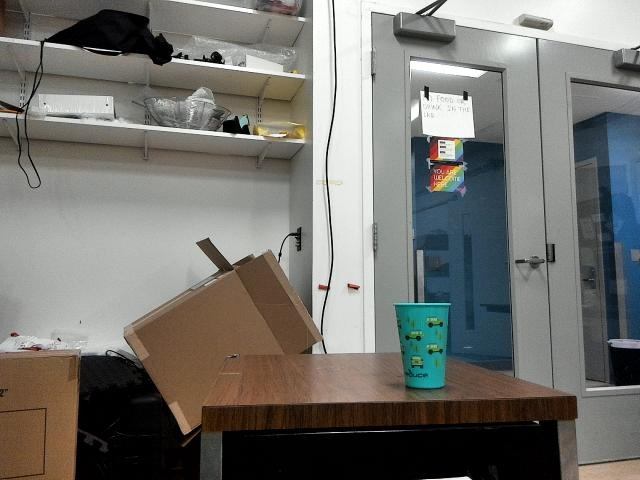coffee_cup: (392, 301, 452, 390)
